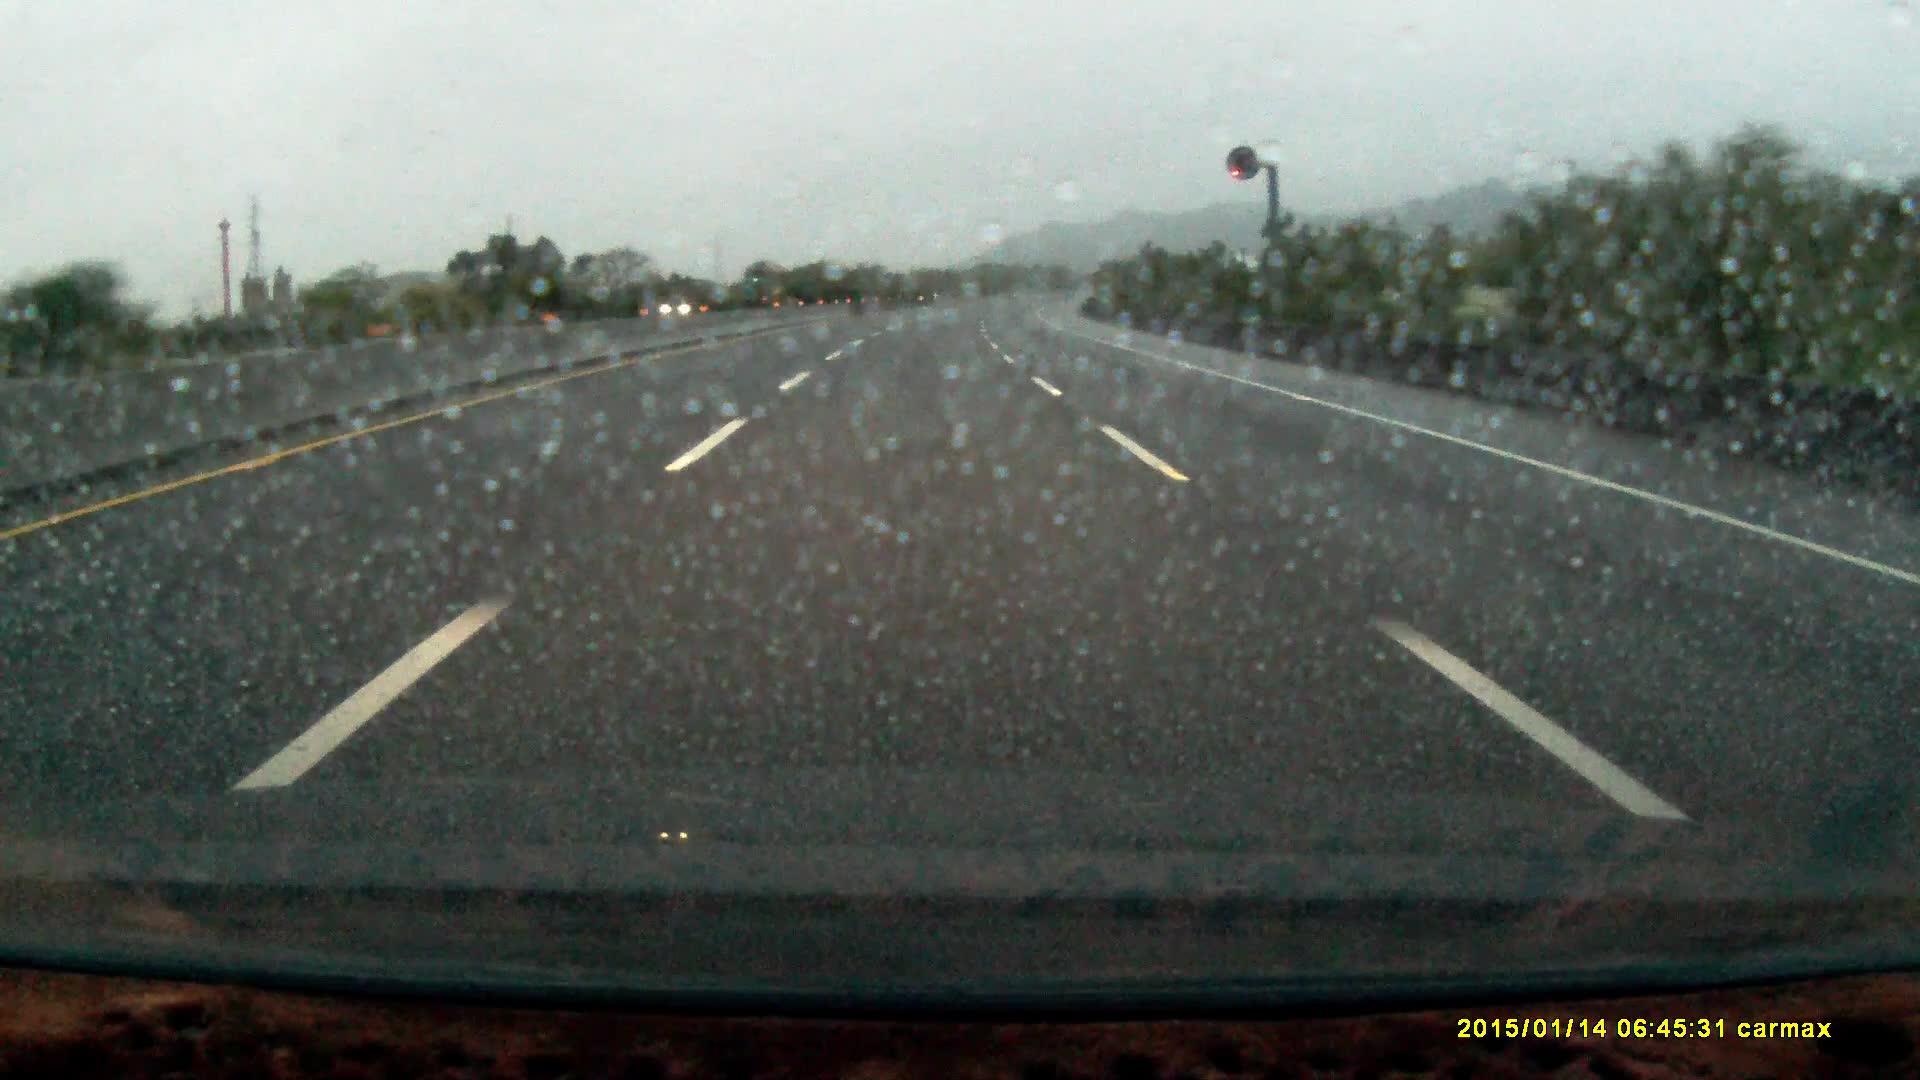vehicle: (740, 260, 785, 303), (662, 291, 709, 314)
